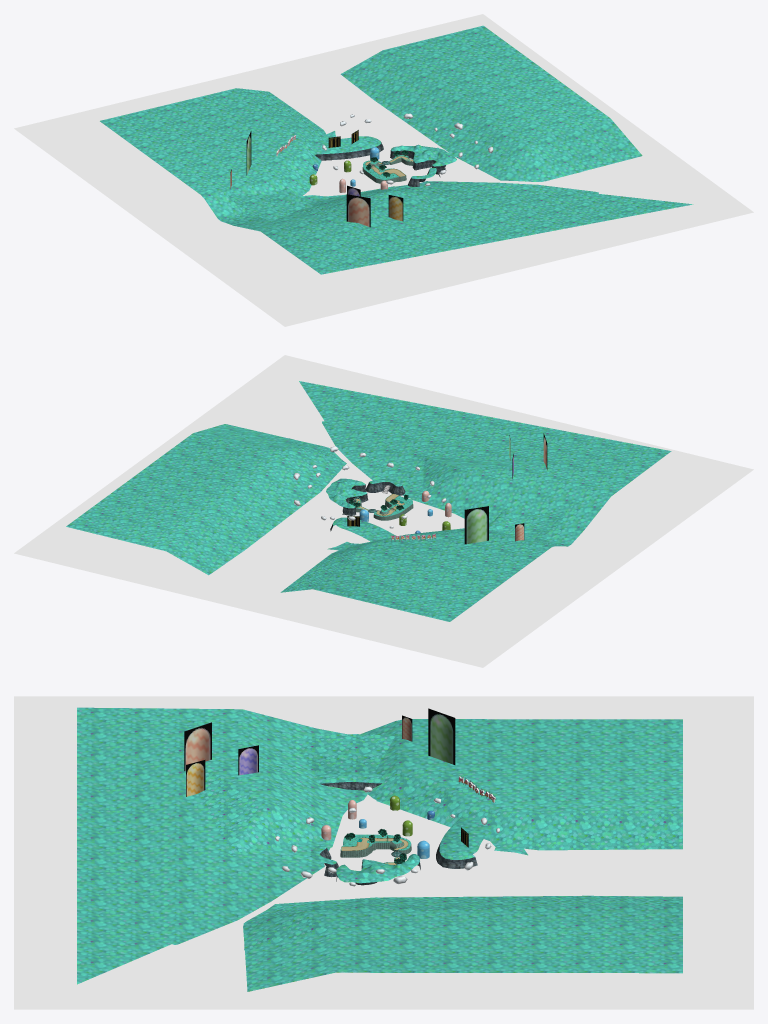
3 views of the same model, one above another, from view 1: azimuth 30°, elevation 25°; view 2: azimuth 150°, elevation 25°; view 3: azimuth 270°, elevation 25° (orthographic). The views are drawn at different scales.
Visible parts, largest first — view 1: GrassMesh.001, MistMesh, BGHillsMesh, RockMesh.001; view 2: GrassMesh.001, MistMesh, BGHillsMesh, RockMesh.001; view 3: GrassMesh.001, MistMesh, BGHillsMesh, RockMesh.001, CloudMesh, HillBaseMesh, WallMesh.
Part boxes in pixels (x1,y1,x2,y2): GrassMesh.001: (100, 25, 693, 274); MistMesh: (14, 14, 753, 326); BGHillsMesh: (230, 131, 403, 227); RockMesh.001: (314, 142, 446, 186); GrassMesh.001: (66, 381, 671, 621); MistMesh: (14, 355, 753, 667); BGHillsMesh: (464, 433, 547, 544); RockMesh.001: (330, 482, 405, 531); GrassMesh.001: (77, 707, 682, 991); MistMesh: (14, 696, 753, 1009); BGHillsMesh: (184, 708, 455, 796); RockMesh.001: (310, 782, 477, 885); CloudMesh: (275, 786, 500, 886); HillBaseMesh: (321, 801, 434, 858); WallMesh: (340, 841, 411, 860).
Bounding box in the file's own units: 807499 × 81734 × 807499.
Materials: 30 (30 with a texture image).
